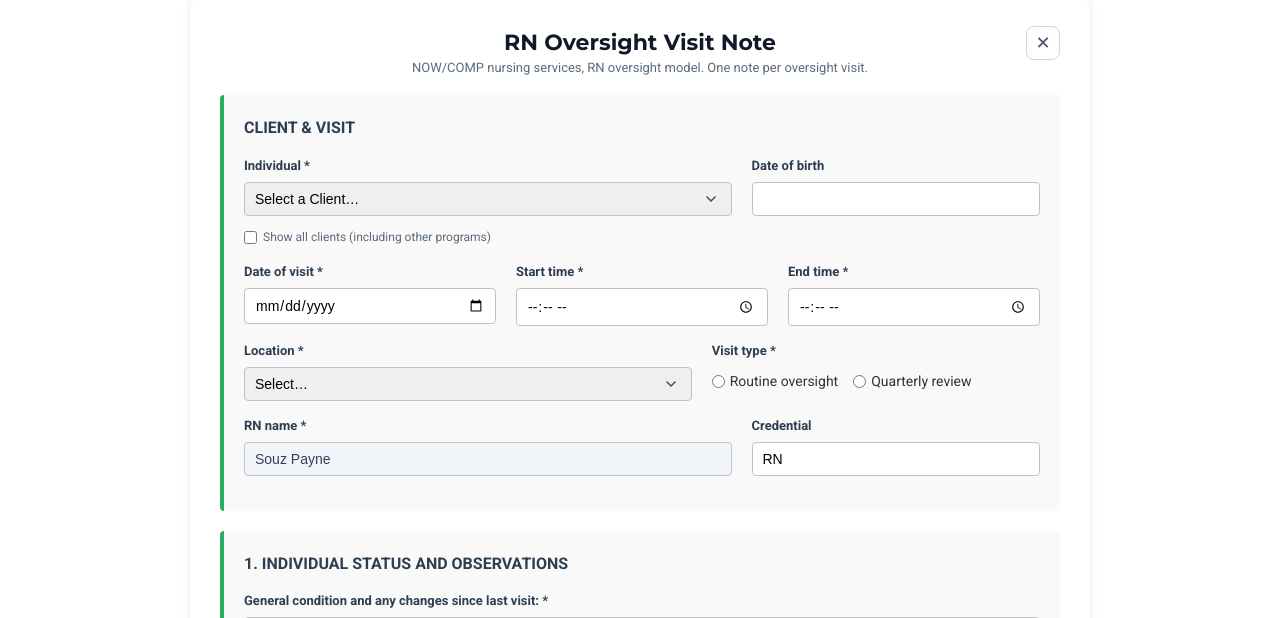
Test: OversightNotePage › location is a dropdown; "Other" asks where
expect the field labelled "Where the visit took place" is not shown: met
Select "Other" in the dropdown labelled "Location *" at (468, 384), box [244,367,692,401]
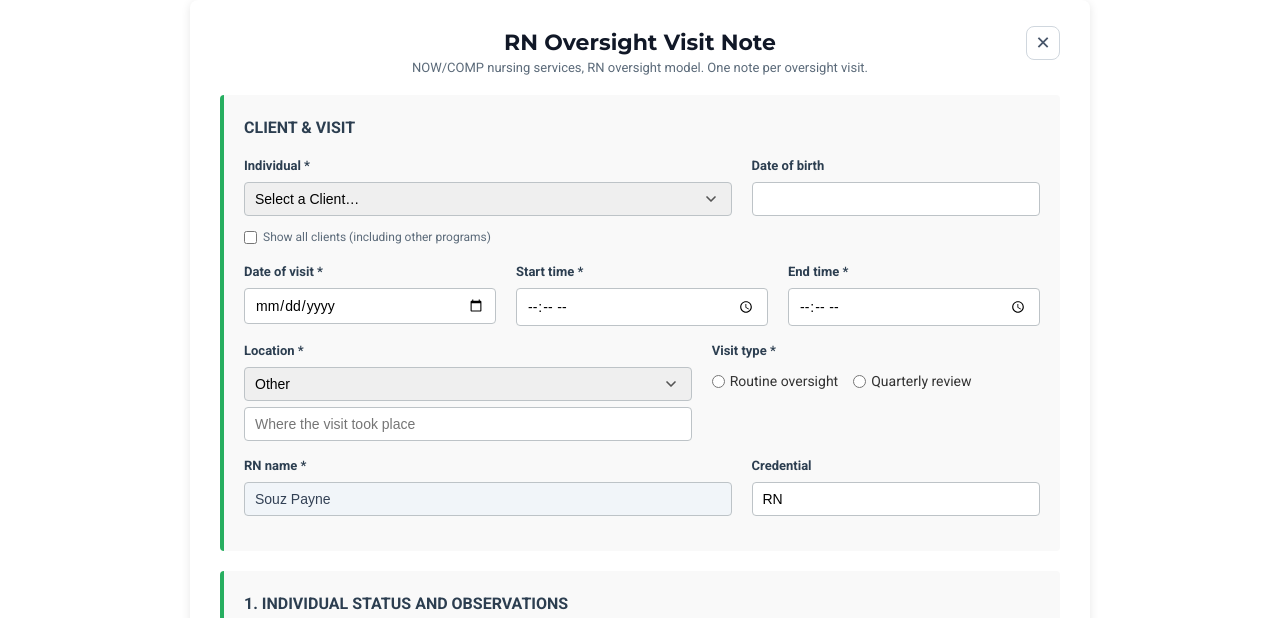
expect the field labelled "Where the visit took place" is shown: met, box [244,407,692,441]
